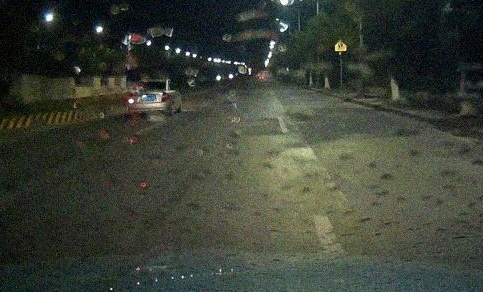L_light: (128, 98, 137, 103)
R_light: (161, 94, 169, 102)
T_light: (149, 82, 157, 84)
night-left: (127, 80, 172, 119)
